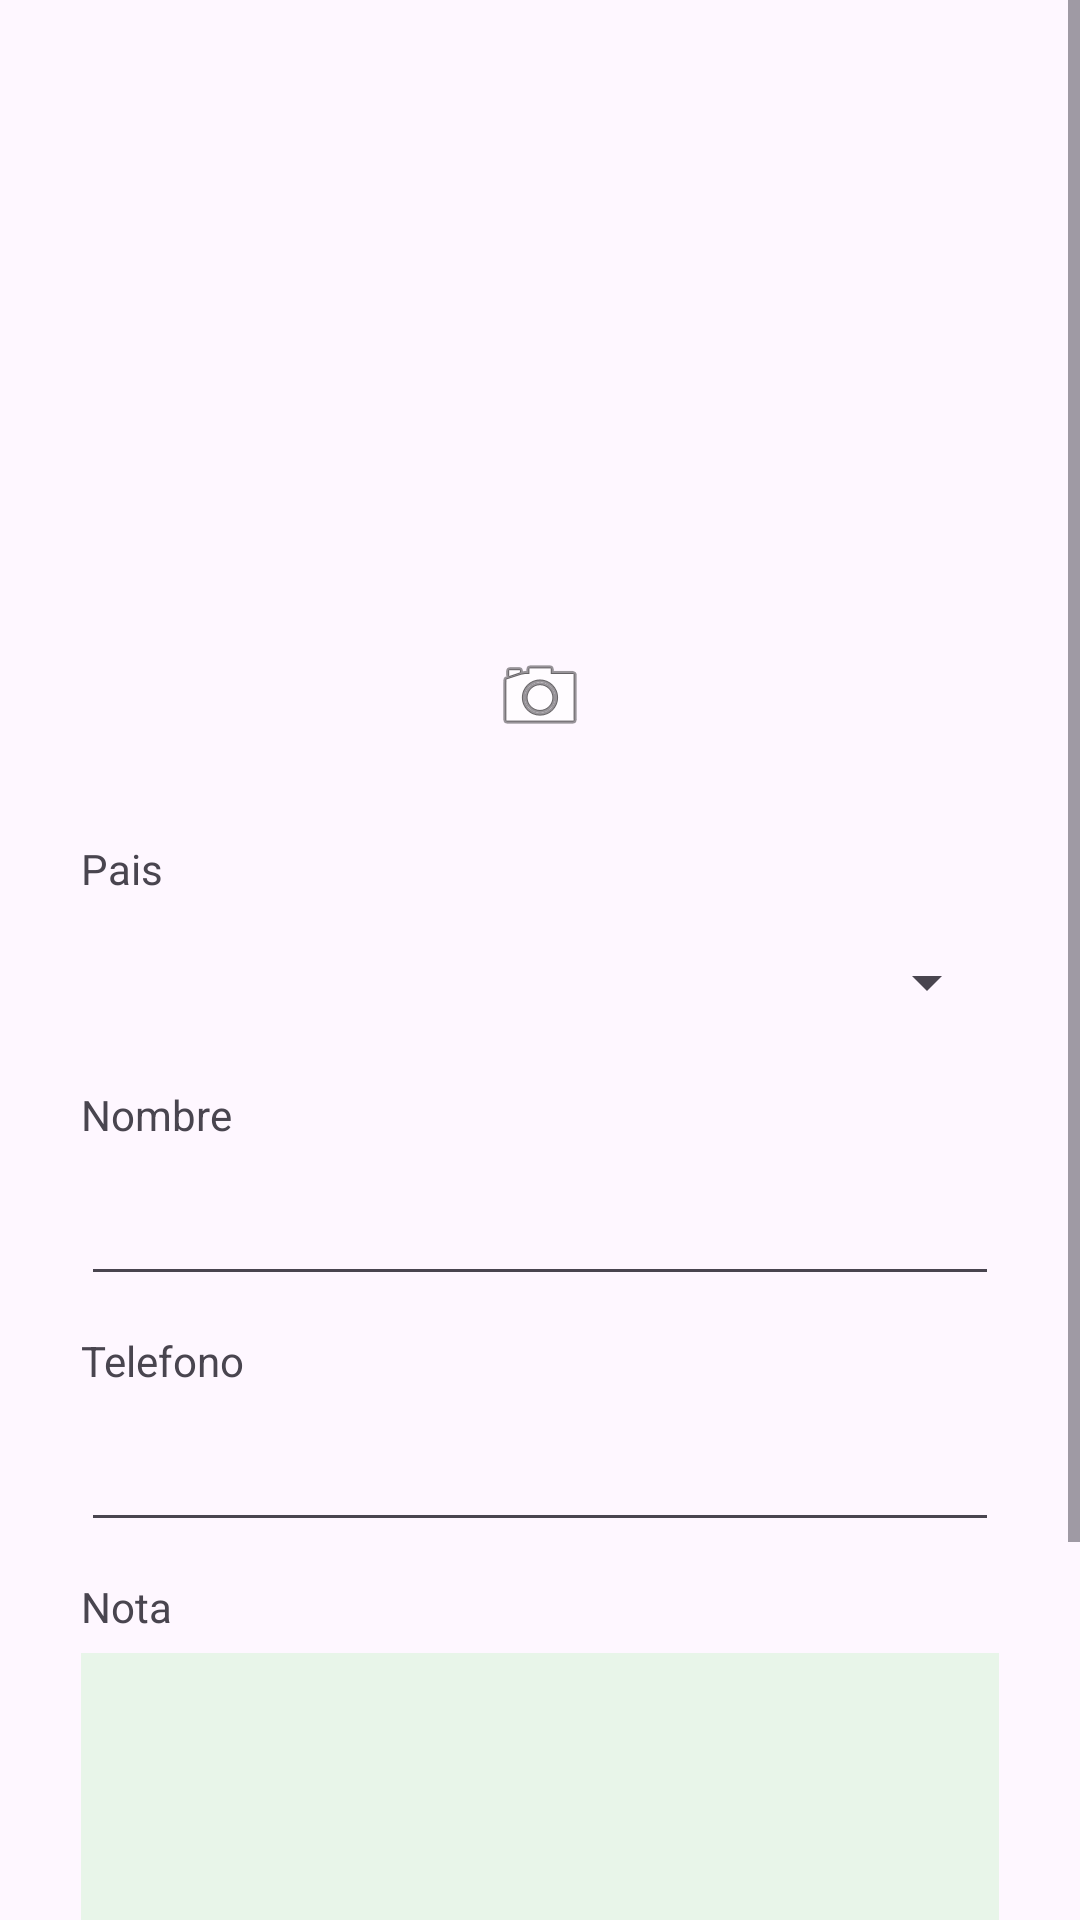

Screen size 1080px x 1920px. Icon name, then its box in pixels as {"left": x1, "top": y1, "right": x2, "bottom": y2}:
camera: {"left": 503, "top": 665, "right": 577, "bottom": 724}
